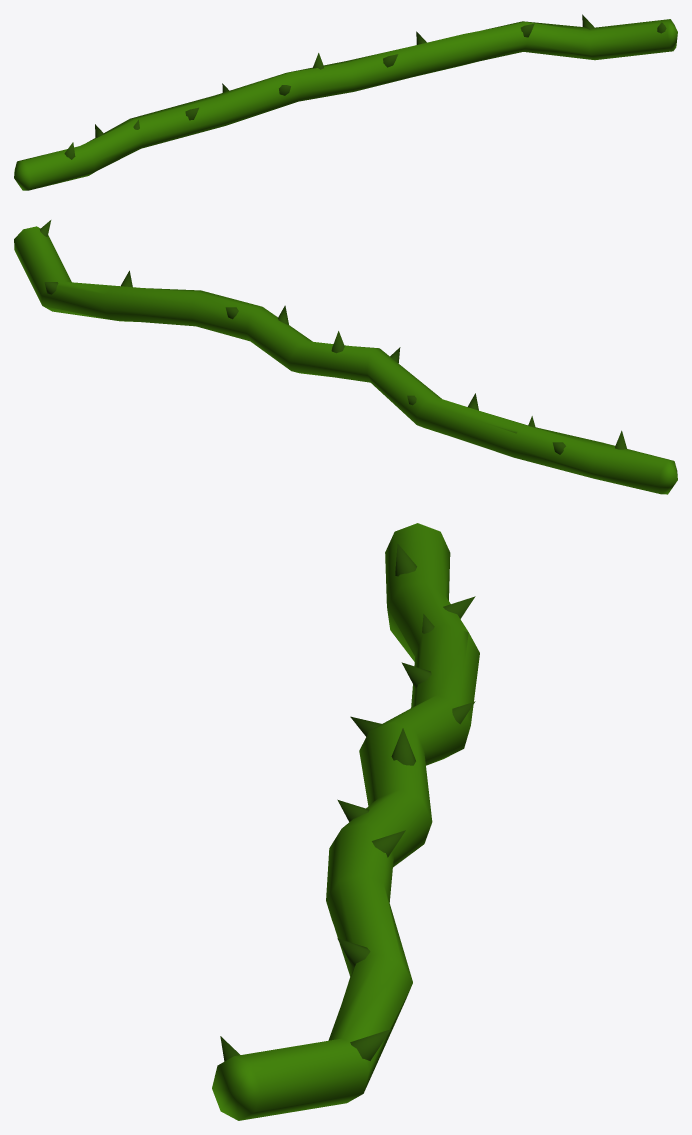
File: Vine.fbx
3 renders of one model, top to bottom at view 1: azimuth 30°, elevation 25°; view 2: azimuth 150°, elevation 25°; view 3: azimuth 270°, elevation 25°, orthographic. The views are drawn at different scales.
Visible parts, largest first — view 1: pCylinder2; view 2: pCylinder2; view 3: pCylinder2.
Part boxes in pixels (x1,y1,x2,y2): pCylinder2: [14, 14, 677, 190]; pCylinder2: [14, 220, 677, 494]; pCylinder2: [212, 523, 479, 1120].
Bounding box in the file's own units: 954 × 102 × 178.
1 material, 1 textured.
